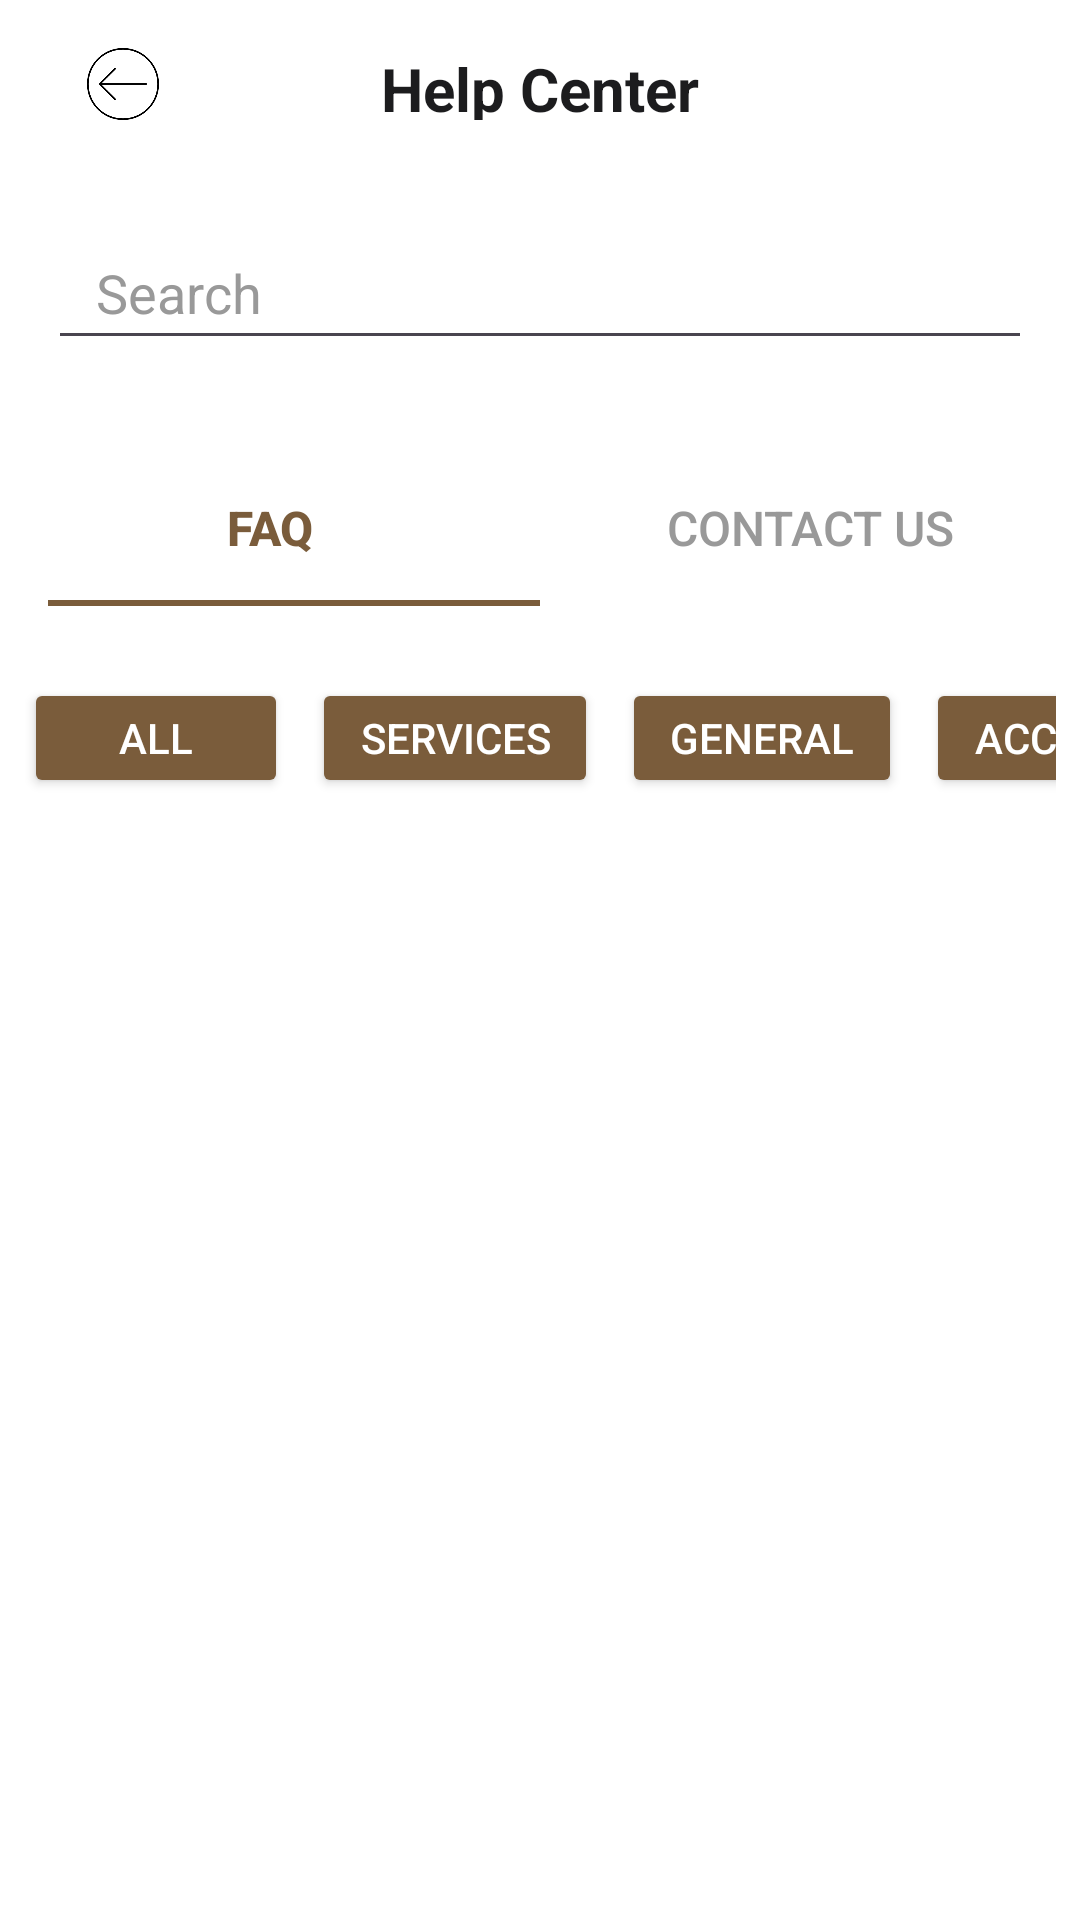

Icon bounding boxes for this 1080 x 1920 phone screenshot, format (x1, y1, x2, y2):
back: (87, 48, 159, 120)
